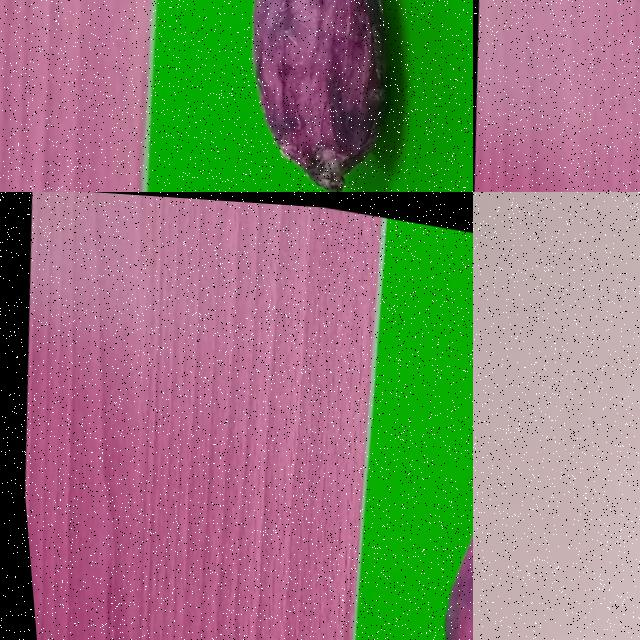Fine_cocoabeans: (202, 0, 472, 191), (378, 375, 472, 639)
